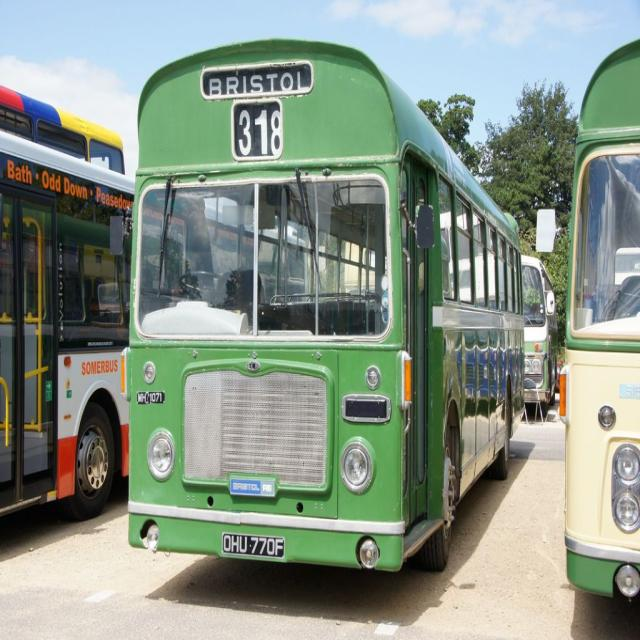Buses: (124, 37, 525, 579), (1, 83, 123, 527), (562, 35, 640, 608)
